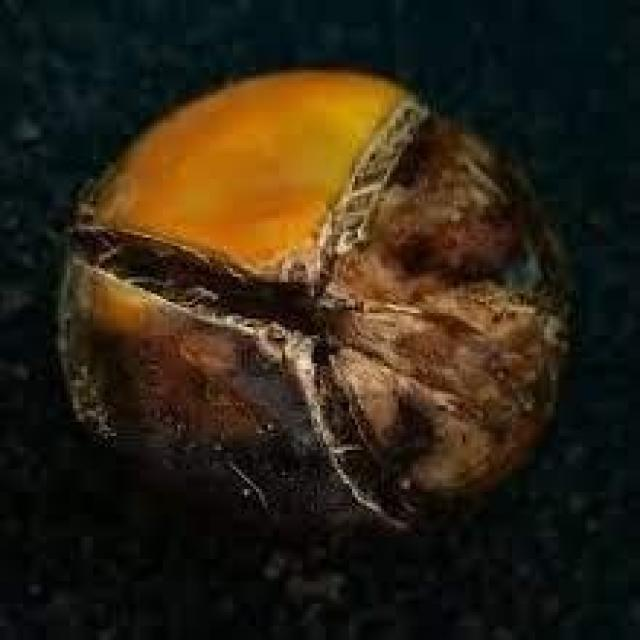damaged: (58, 70, 567, 528)
